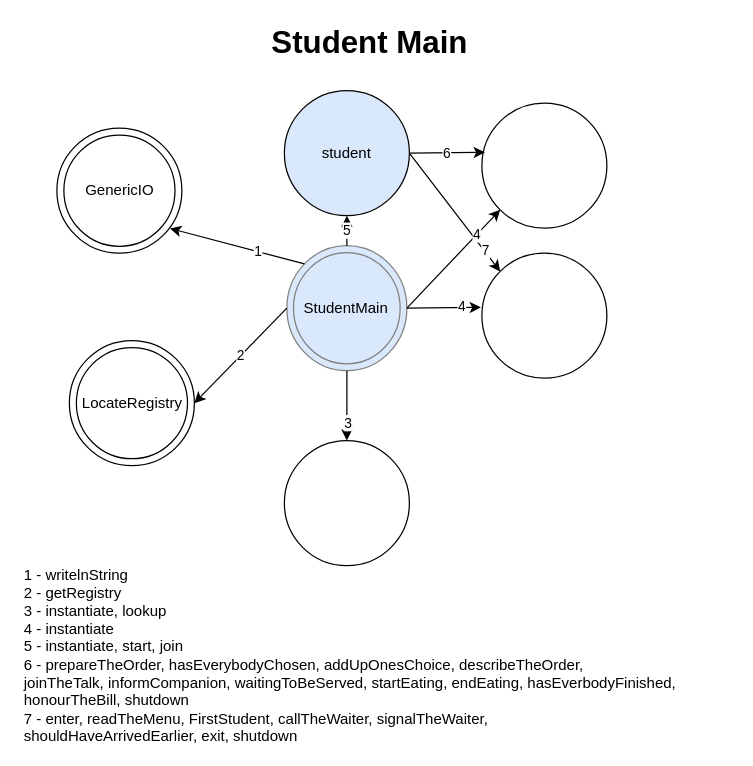
The diagram is 753 pixels wide and 766 high, and some of its shapes have lost their labels. Here are the shapes that lost their labels. From the top down, the box of each, then its label:
(481, 102, 607, 228): tableStub
(481, 252, 607, 378): barStub
(283, 439, 409, 566): registry
